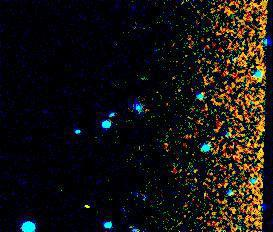star: (72, 190, 102, 220)
